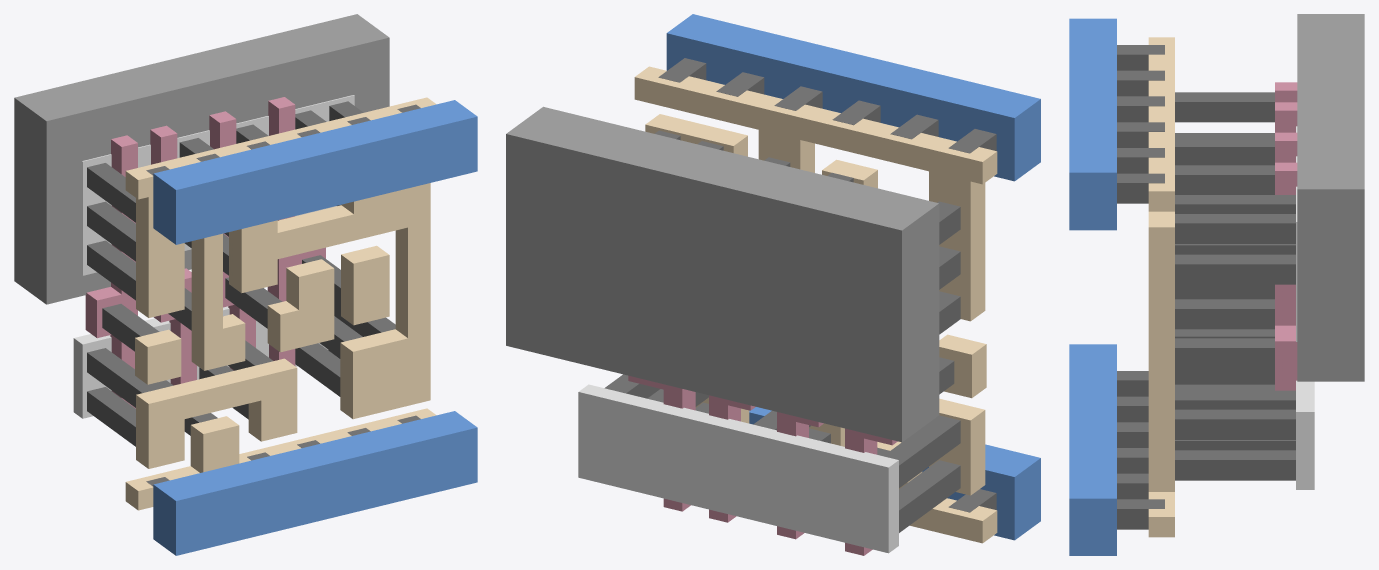
Rendered from sky130_fd_sc_hd__o211ai_1.gds.gltf.
The picture shows the model from 3 angles, left to right: view 1: azimuth 30°, elevation 25°; view 2: azimuth 150°, elevation 25°; view 3: azimuth 270°, elevation 25°; orthographic projection. The views are drawn at different scales.
Parts seen in each view (by area): view 1: sky130_fd_sc_hd__o211ai_1_li1, sky130_fd_sc_hd__o211ai_1_met1, sky130_fd_sc_hd__o211ai_1_nwell, sky130_fd_sc_hd__o211ai_1_licon, sky130_fd_sc_hd__o211ai_1_poly, sky130_fd_sc_hd__o211ai_1_diff, sky130_fd_sc_hd__o211ai_1_mcon; view 2: sky130_fd_sc_hd__o211ai_1_nwell, sky130_fd_sc_hd__o211ai_1_diff, sky130_fd_sc_hd__o211ai_1_li1, sky130_fd_sc_hd__o211ai_1_met1, sky130_fd_sc_hd__o211ai_1_licon, sky130_fd_sc_hd__o211ai_1_mcon, sky130_fd_sc_hd__o211ai_1_poly; view 3: sky130_fd_sc_hd__o211ai_1_licon, sky130_fd_sc_hd__o211ai_1_nwell, sky130_fd_sc_hd__o211ai_1_met1, sky130_fd_sc_hd__o211ai_1_li1, sky130_fd_sc_hd__o211ai_1_mcon, sky130_fd_sc_hd__o211ai_1_poly, sky130_fd_sc_hd__o211ai_1_diff.
Part boxes in pixels (<box>): sky130_fd_sc_hd__o211ai_1_li1: <box>125,97,436,510</box>; sky130_fd_sc_hd__o211ai_1_met1: <box>153,100,477,555</box>; sky130_fd_sc_hd__o211ai_1_nwell: <box>14,14,389,304</box>; sky130_fd_sc_hd__o211ai_1_licon: <box>87,101,395,446</box>; sky130_fd_sc_hd__o211ai_1_poly: <box>85,97,325,408</box>; sky130_fd_sc_hd__o211ai_1_diff: <box>73,95,354,418</box>; sky130_fd_sc_hd__o211ai_1_mcon: <box>146,104,420,486</box>; sky130_fd_sc_hd__o211ai_1_nwell: <box>506,106,939,442</box>; sky130_fd_sc_hd__o211ai_1_diff: <box>578,384,898,553</box>; sky130_fd_sc_hd__o211ai_1_li1: <box>634,66,997,543</box>; sky130_fd_sc_hd__o211ai_1_met1: <box>666,14,1040,540</box>; sky130_fd_sc_hd__o211ai_1_licon: <box>604,130,960,532</box>; sky130_fd_sc_hd__o211ai_1_mcon: <box>658,58,996,512</box>; sky130_fd_sc_hd__o211ai_1_poly: <box>628,375,897,555</box>; sky130_fd_sc_hd__o211ai_1_licon: <box>1175,92,1295,480</box>; sky130_fd_sc_hd__o211ai_1_nwell: <box>1297,14,1364,381</box>; sky130_fd_sc_hd__o211ai_1_met1: <box>1069,18,1116,555</box>; sky130_fd_sc_hd__o211ai_1_li1: <box>1148,37,1174,537</box>; sky130_fd_sc_hd__o211ai_1_mcon: <box>1117,45,1164,529</box>; sky130_fd_sc_hd__o211ai_1_poly: <box>1275,82,1297,390</box>; sky130_fd_sc_hd__o211ai_1_diff: <box>1296,126,1314,489</box>.
Size of the model in its own units: 3.14 by 3.2 by 2.24.
